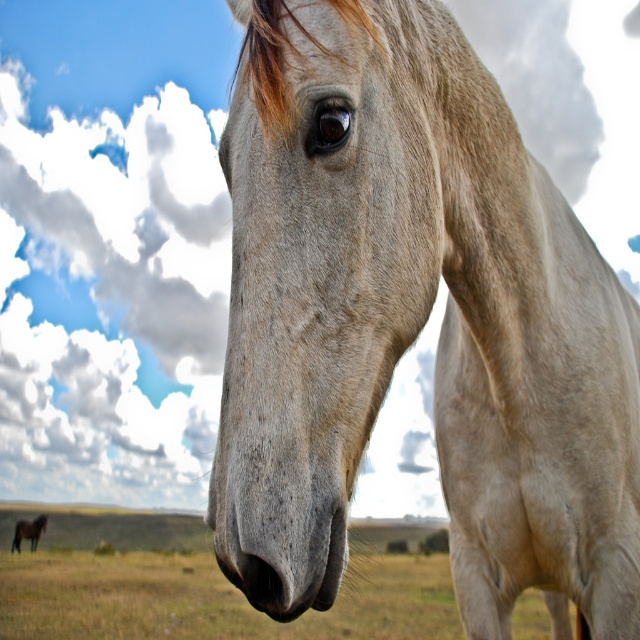Horse: (205, 0, 640, 639), (13, 514, 47, 552)
